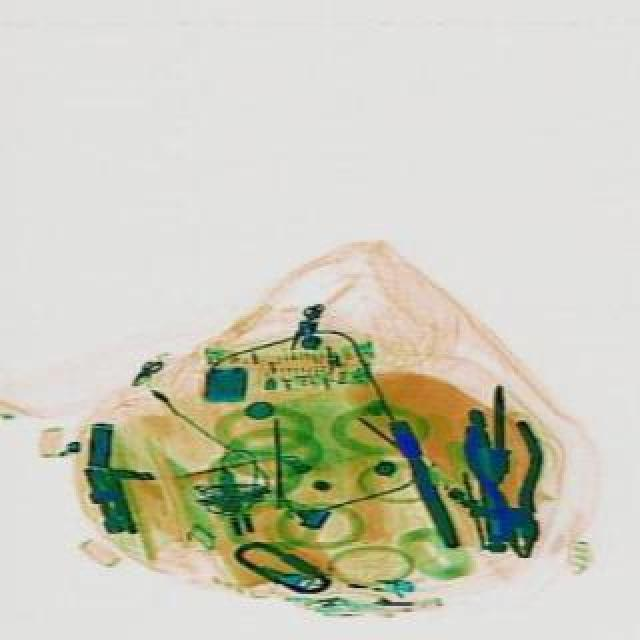wrench: (454, 414, 560, 562)
